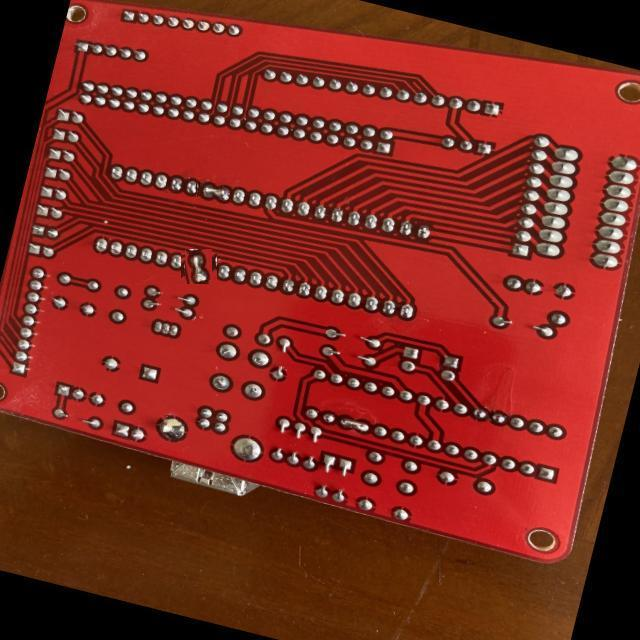damged: (183, 251, 215, 282), (333, 412, 372, 436), (196, 178, 232, 204)
